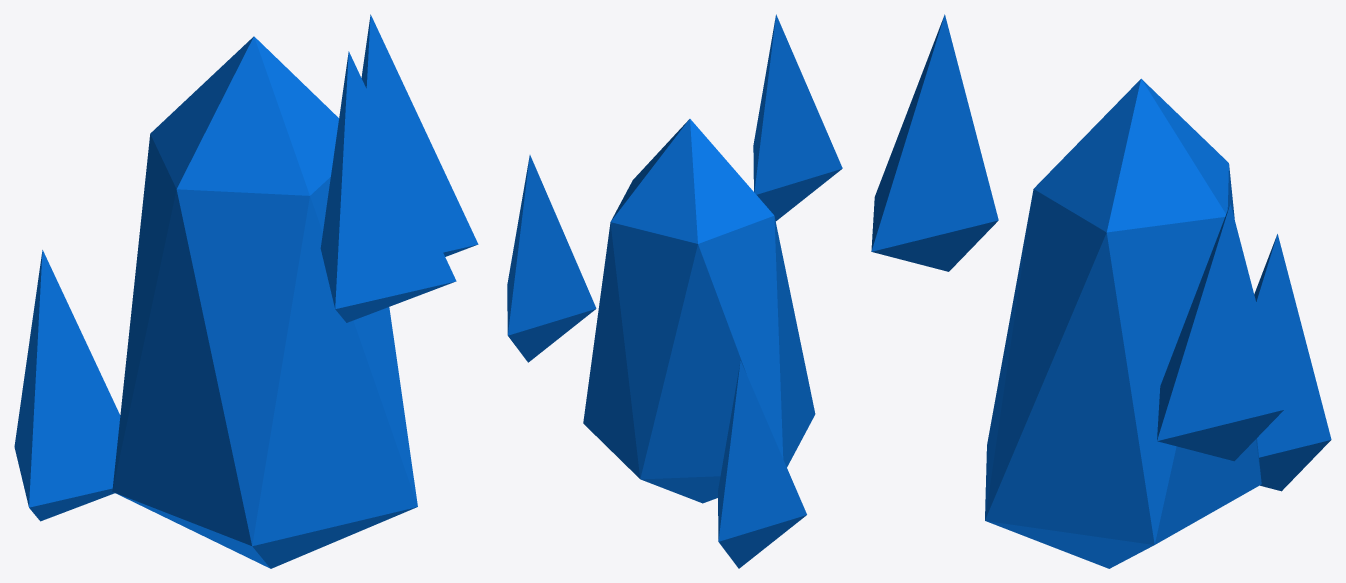
File: crystal_blue.FBX
The picture shows the model from 3 angles, left to right: view 1: azimuth 30°, elevation 25°; view 2: azimuth 150°, elevation 25°; view 3: azimuth 270°, elevation 25°; orthographic projection. The views are drawn at different scales.
Parts seen in each view (by area): view 1: chrystal_blue; view 2: chrystal_blue; view 3: chrystal_blue.
Part boxes in pixels (box(x1,y1,x2,y2)): chrystal_blue: box(14, 14, 478, 568); chrystal_blue: box(507, 14, 842, 568); chrystal_blue: box(871, 14, 1331, 568).
Bounding box in the file's own units: 18.7 × 24.7 × 18.71.
